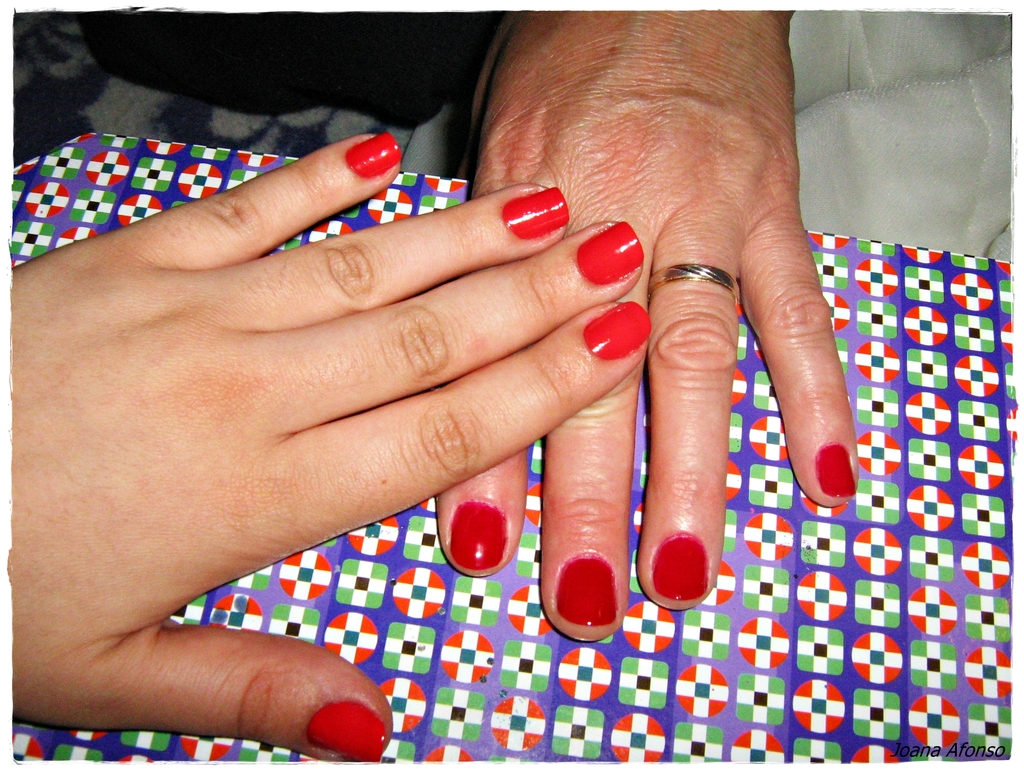Person: (7, 131, 651, 764), (436, 10, 859, 641)
